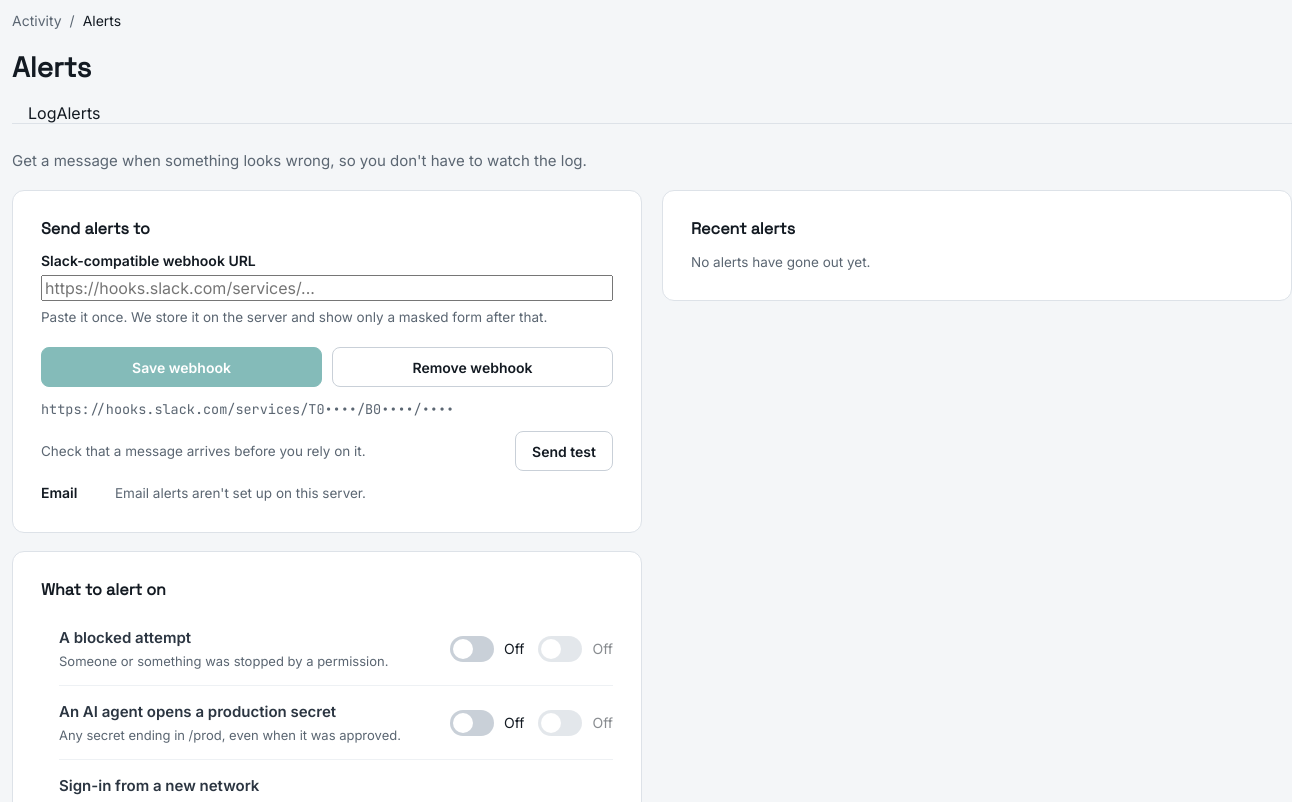
Test: Alerts: send test and recent alerts › says failed when the webhook did not take the message
What coordinates should you click on to do the following:
click the button "Send test"
I would click on:
 (564, 451)
Its box is left=515, top=431, right=613, bottom=471.
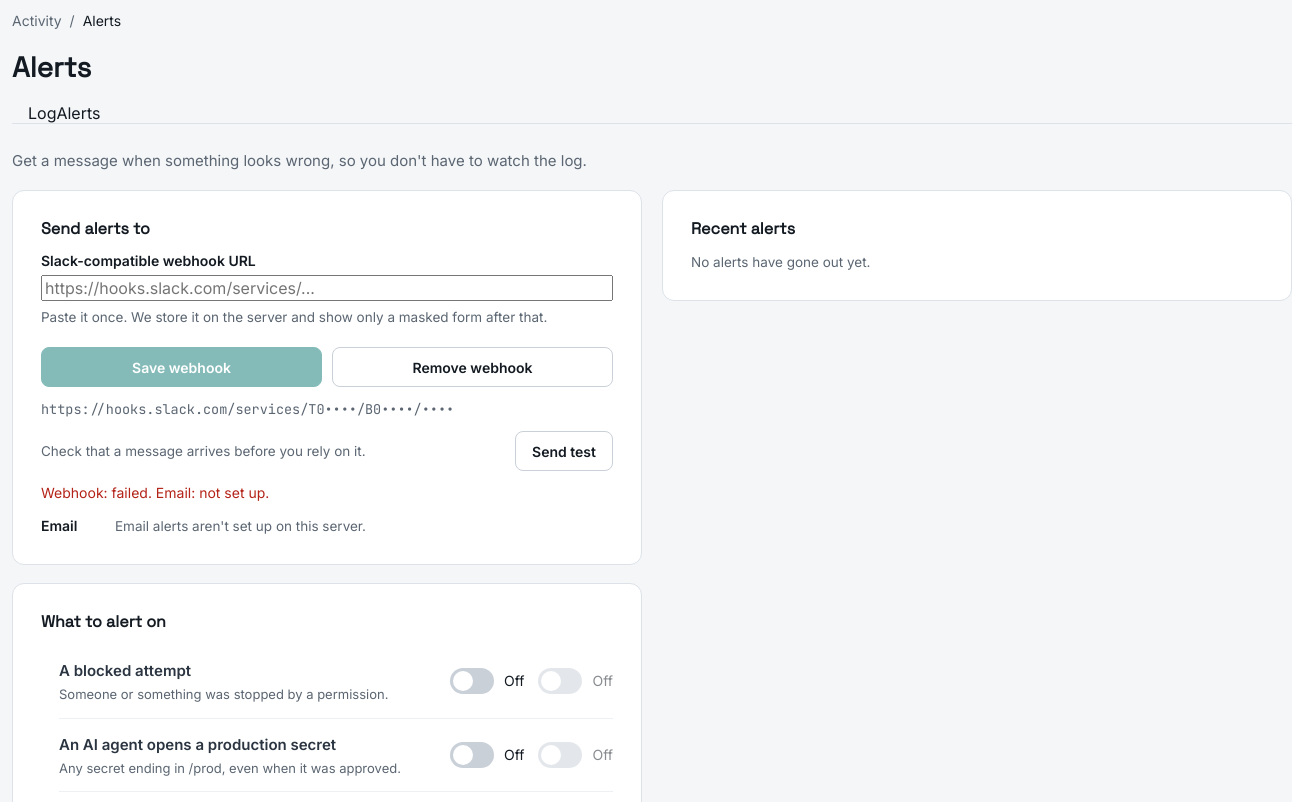
expect the text "Webhook: failed." is shown: met, box left=41, top=484, right=269, bottom=501
